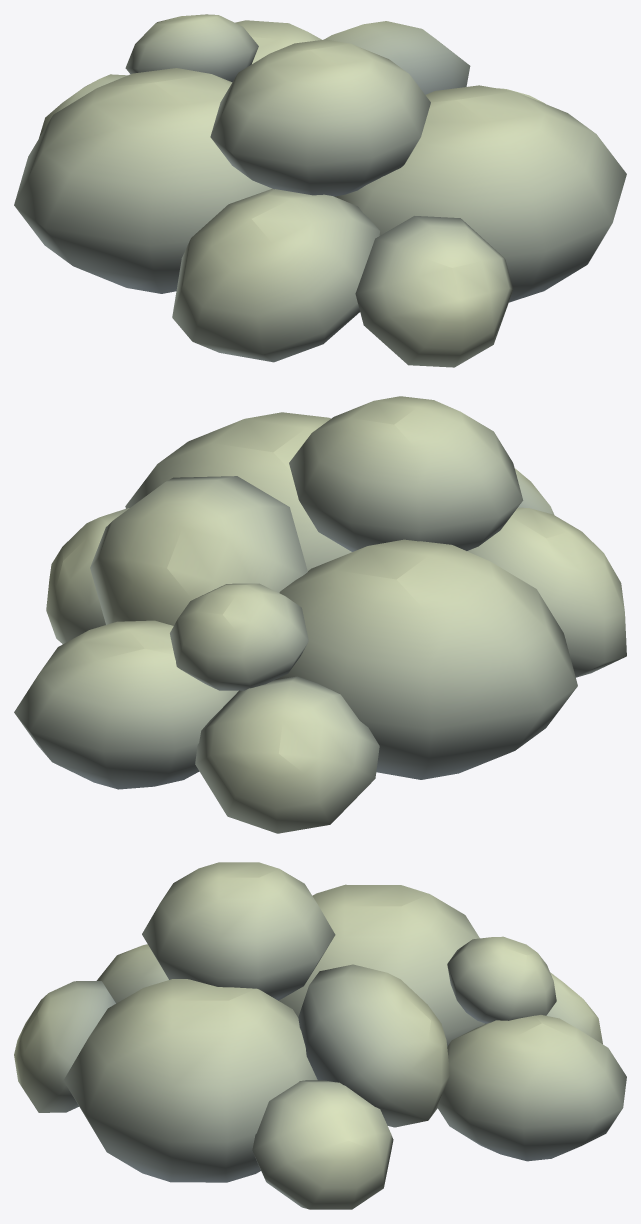
Rendered from nuggets_iron_pile.fbx.
3 renders of one model, top to bottom at view 1: azimuth 30°, elevation 25°; view 2: azimuth 150°, elevation 25°; view 3: azimuth 270°, elevation 25°, orthographic. The views are drawn at different scales.
Visible parts, largest first — view 1: nuggets_iron_pile; view 2: nuggets_iron_pile; view 3: nuggets_iron_pile.
Part boxes in pixels (bbox=[...]): nuggets_iron_pile: bbox=[14, 14, 626, 367]; nuggets_iron_pile: bbox=[14, 396, 626, 833]; nuggets_iron_pile: bbox=[14, 862, 626, 1209].
Bounding box in the file's own units: 152 × 70.1 × 173.
Materials: 1 (1 with a texture image).
